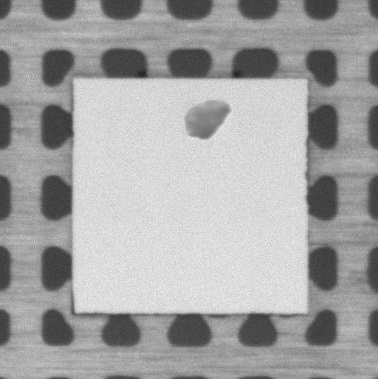DIE_INK: (181, 97, 230, 139)
